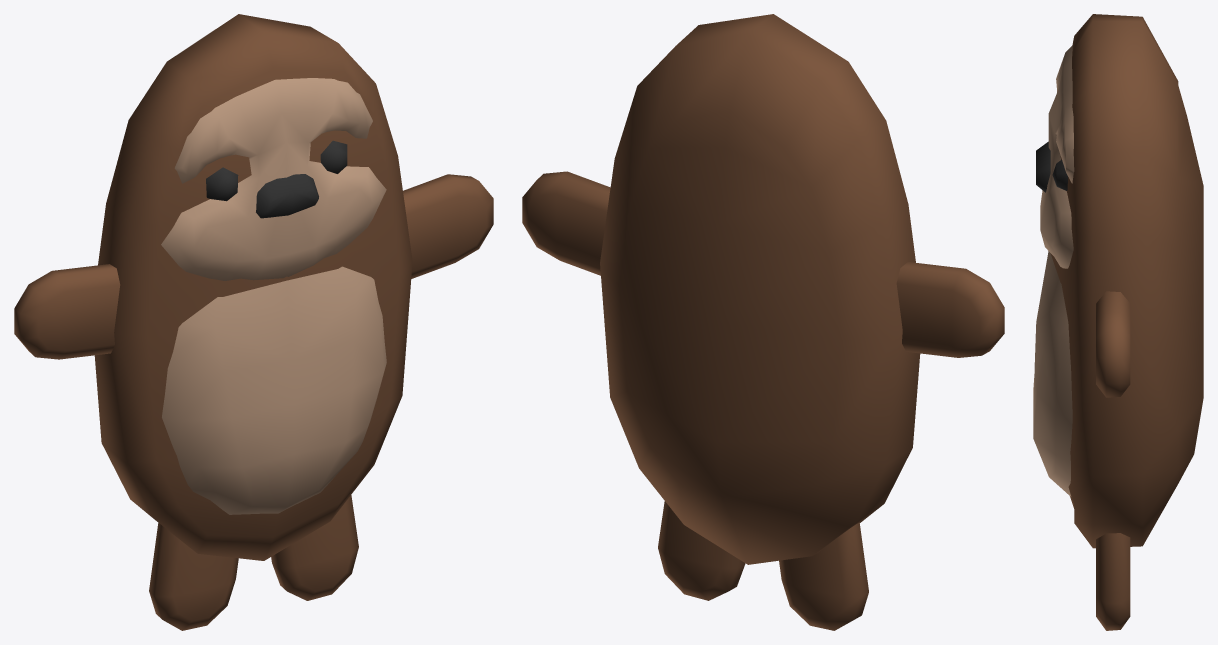
The model's file is Sloth_01.fbx.
3 views of the same model, side by side, from view 1: azimuth 30°, elevation 25°; view 2: azimuth 150°, elevation 25°; view 3: azimuth 270°, elevation 25° (orthographic). The views are drawn at different scales.
Visible parts, largest first — view 1: Sloth_01; view 2: Sloth_01; view 3: Sloth_01.
Boxes of the visible parts, x1,y1,x2,y2 form: Sloth_01: (14,14,493,630); Sloth_01: (522,14,1004,630); Sloth_01: (1033,14,1203,630).
Size of the model in its own units: 0.2867 by 0.3396 by 0.0912.
